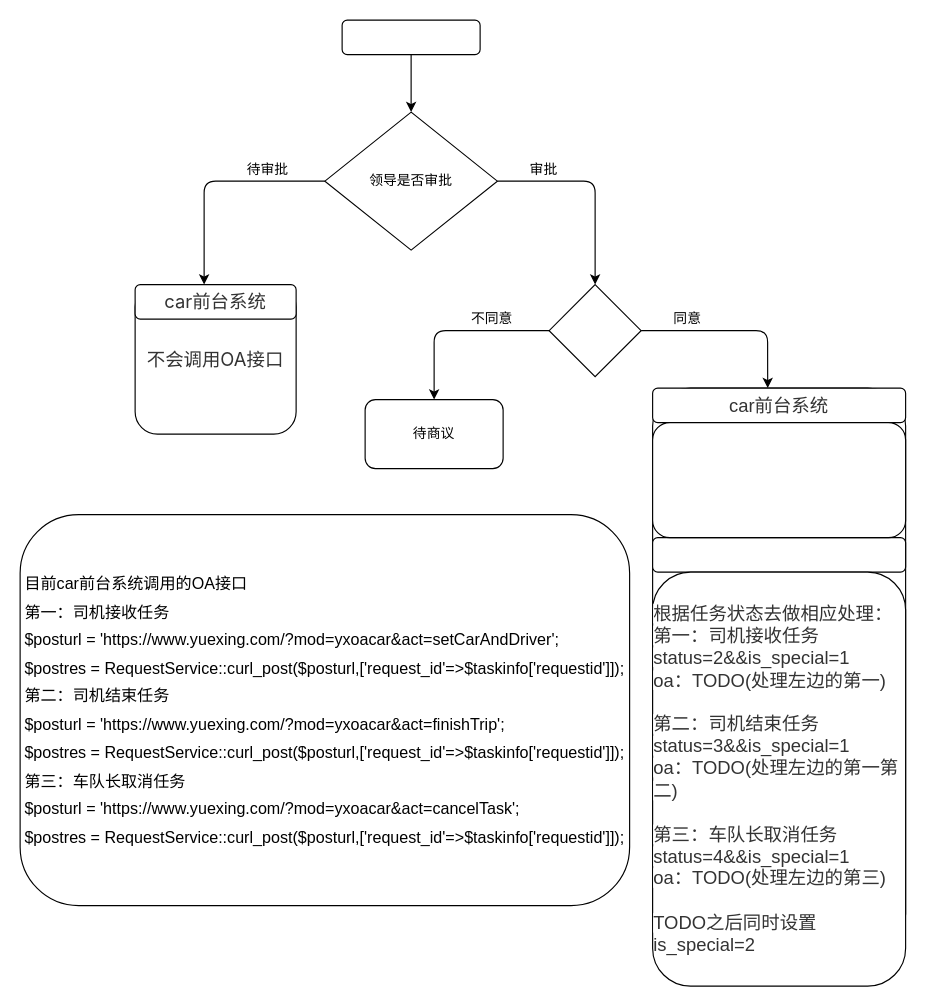
This 926x1006 diagram has some shape labels left out. Here are the shapes that lost their labels. From the top down, the box of each, then its label:
(341, 19, 480, 55): 申请用车
(548, 283, 641, 377): 是否同意
(651, 421, 906, 538): 正常调用OA接口
(651, 536, 906, 572): OA接口
